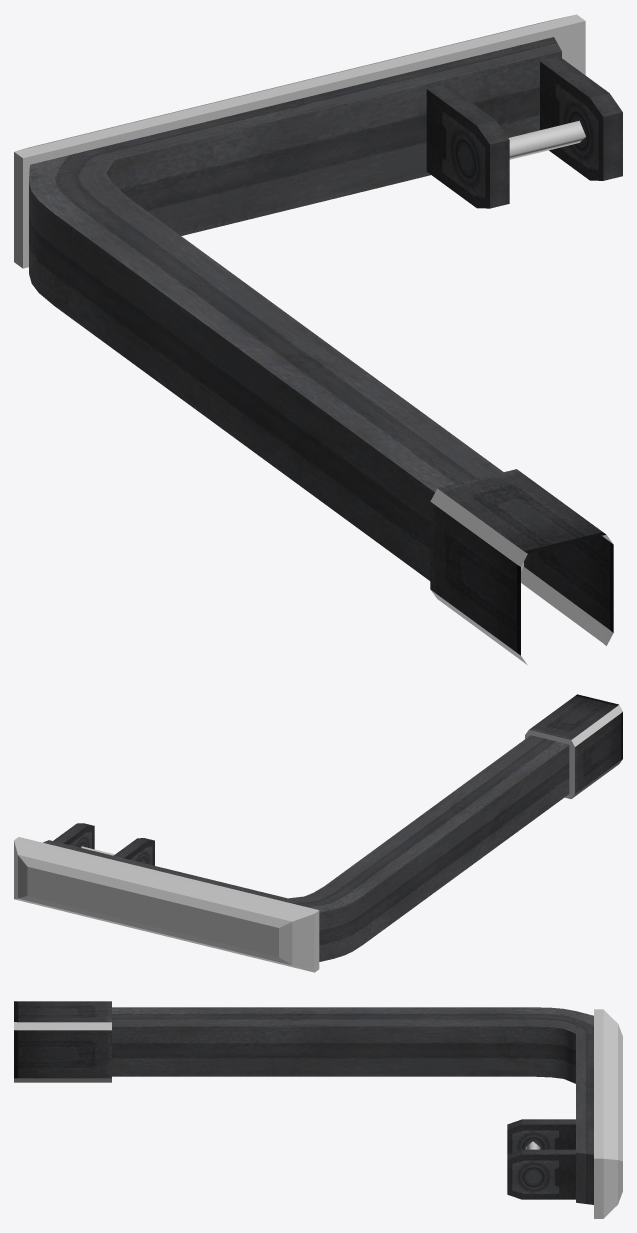
File: Ob_Zipline_base_Low.fbx
The picture shows the model from 3 angles, top to bottom: view 1: azimuth 30°, elevation 25°; view 2: azimuth 150°, elevation 25°; view 3: azimuth 270°, elevation 25°; orthographic projection. The views are drawn at different scales.
Visible parts, largest first — view 1: cmn_obj_pulleystandA; view 2: cmn_obj_pulleystandA; view 3: cmn_obj_pulleystandA.
Part boxes in pixels (<box>): cmn_obj_pulleystandA: <box>14,14,622,664</box>; cmn_obj_pulleystandA: <box>14,694,622,972</box>; cmn_obj_pulleystandA: <box>14,1001,622,1218</box>.
Size of the model in its own units: 1.56 by 0.279 by 2.53.
